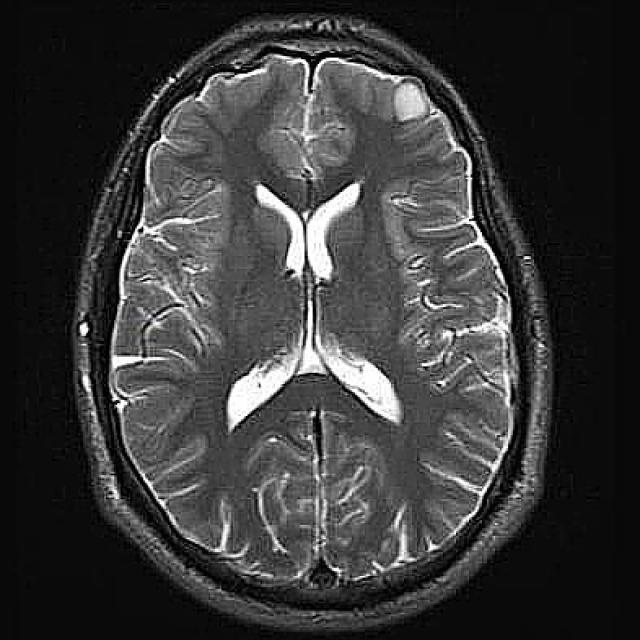notumor: (75, 14, 549, 630)
